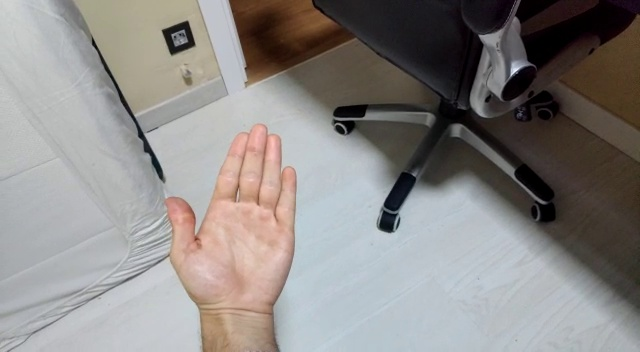Palm: (162, 120, 302, 319)
